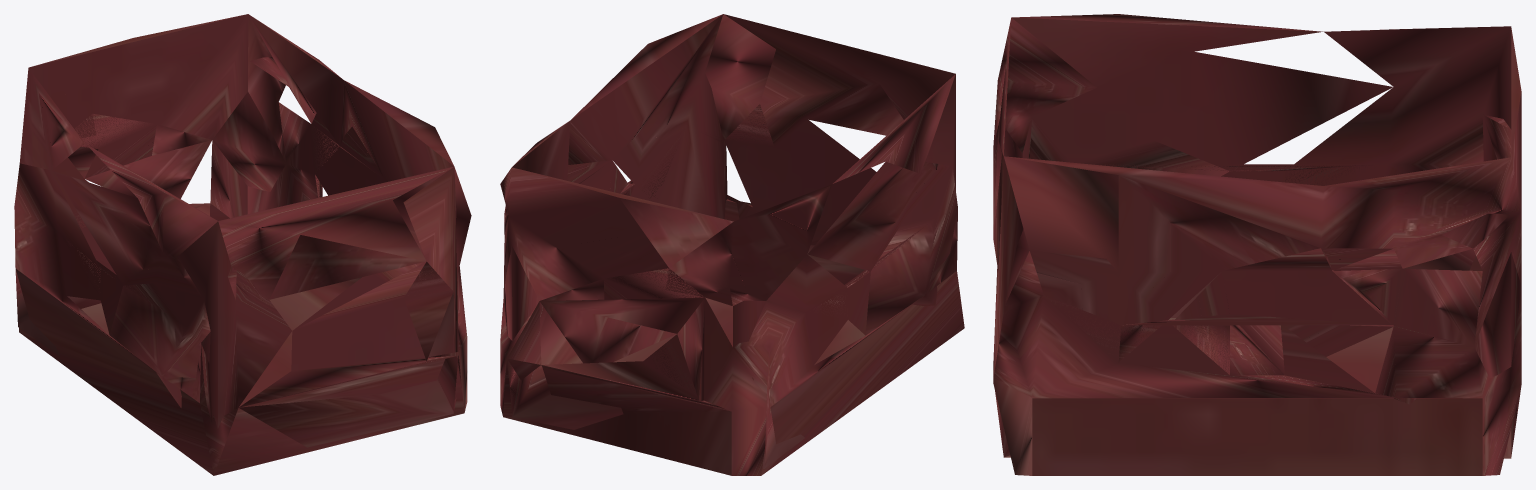
The model's file is ket-nhua.glb.
3 views of the same model, side by side, from view 1: azimuth 30°, elevation 25°; view 2: azimuth 150°, elevation 25°; view 3: azimuth 270°, elevation 25° (orthographic). The views are drawn at different scales.
Parts seen in each view (by area): view 1: plastic_crate_01; view 2: plastic_crate_01; view 3: plastic_crate_01.
Boxes of the visible parts, x1,y1,x2,y2 form: plastic_crate_01: [14, 14, 471, 475]; plastic_crate_01: [500, 14, 964, 475]; plastic_crate_01: [993, 14, 1521, 475].
Size of the model in its own units: 0.7304 by 0.6474 by 1.
Materials: 1 (1 with a texture image).
